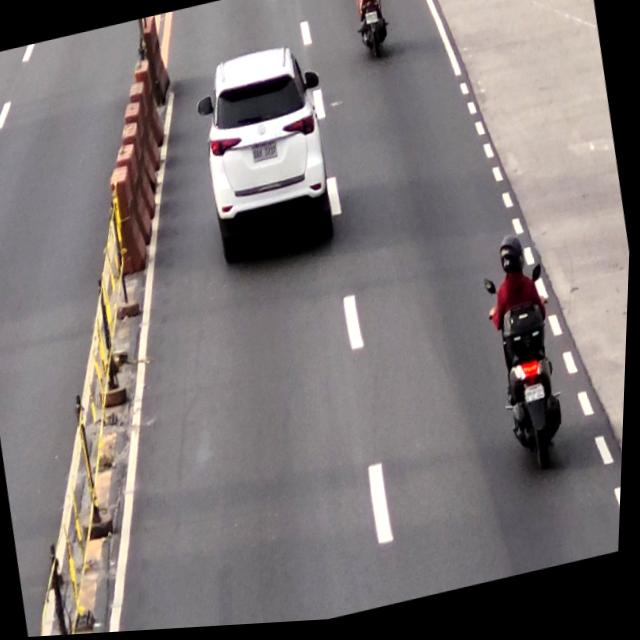Car: (191, 42, 341, 263)
License-Plate: (250, 140, 281, 168)
Motorcycle: (483, 234, 581, 485), (349, 0, 394, 63)
